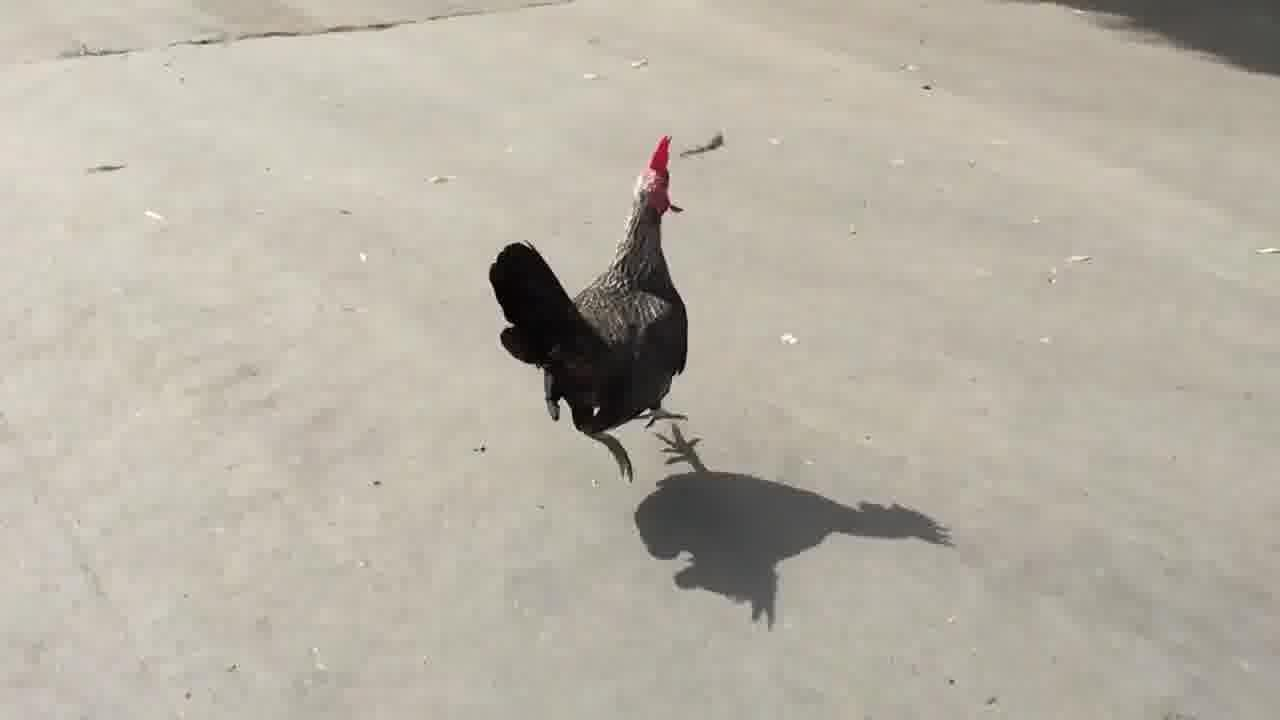Normal: (482, 134, 704, 486)
